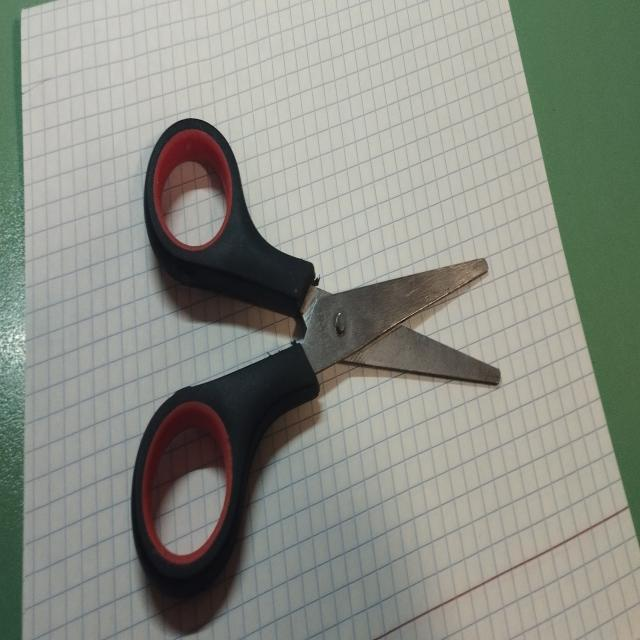tesoura: (126, 110, 504, 579)
